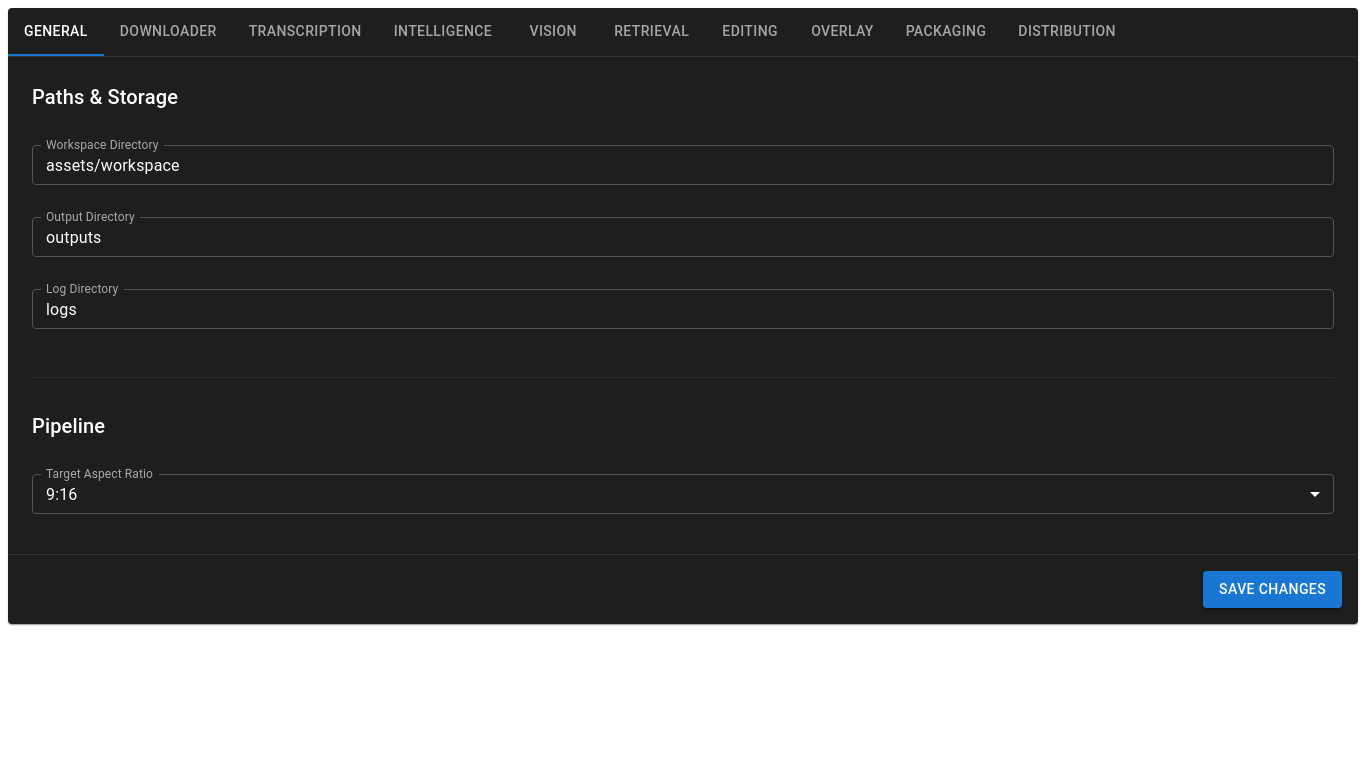
Test: SettingsView Component › displays error if saving settings fails
Click the button "Save Changes".
click(1273, 589)  # box [1203, 571, 1342, 608]
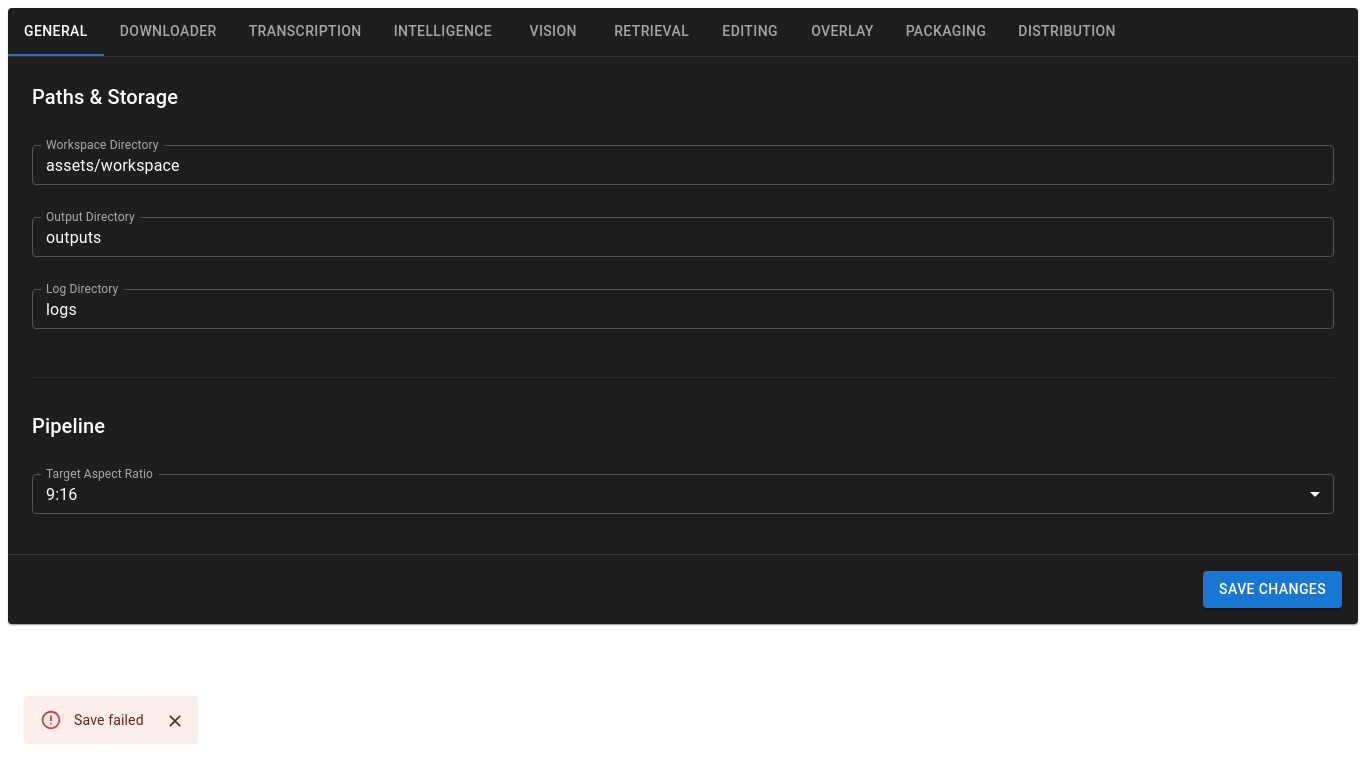
Expected: the text "Save failed" is shown, [74, 712, 144, 728]
